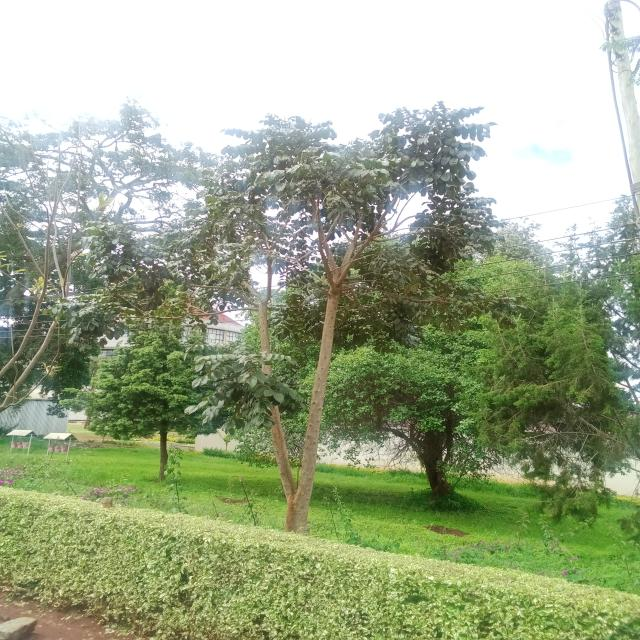Polyscias Kikuyensis: (152, 88, 499, 537)
